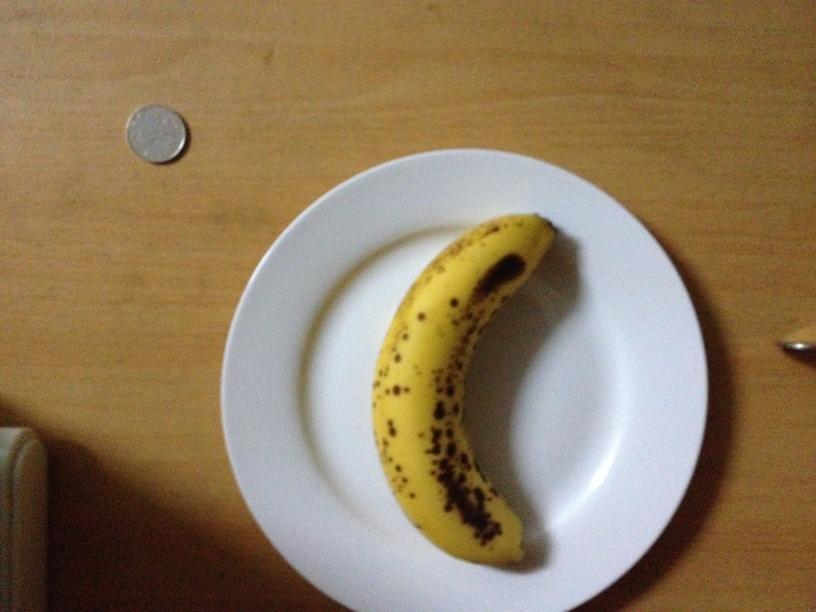banana: (367, 213, 554, 565)
coin: (123, 104, 189, 162)
